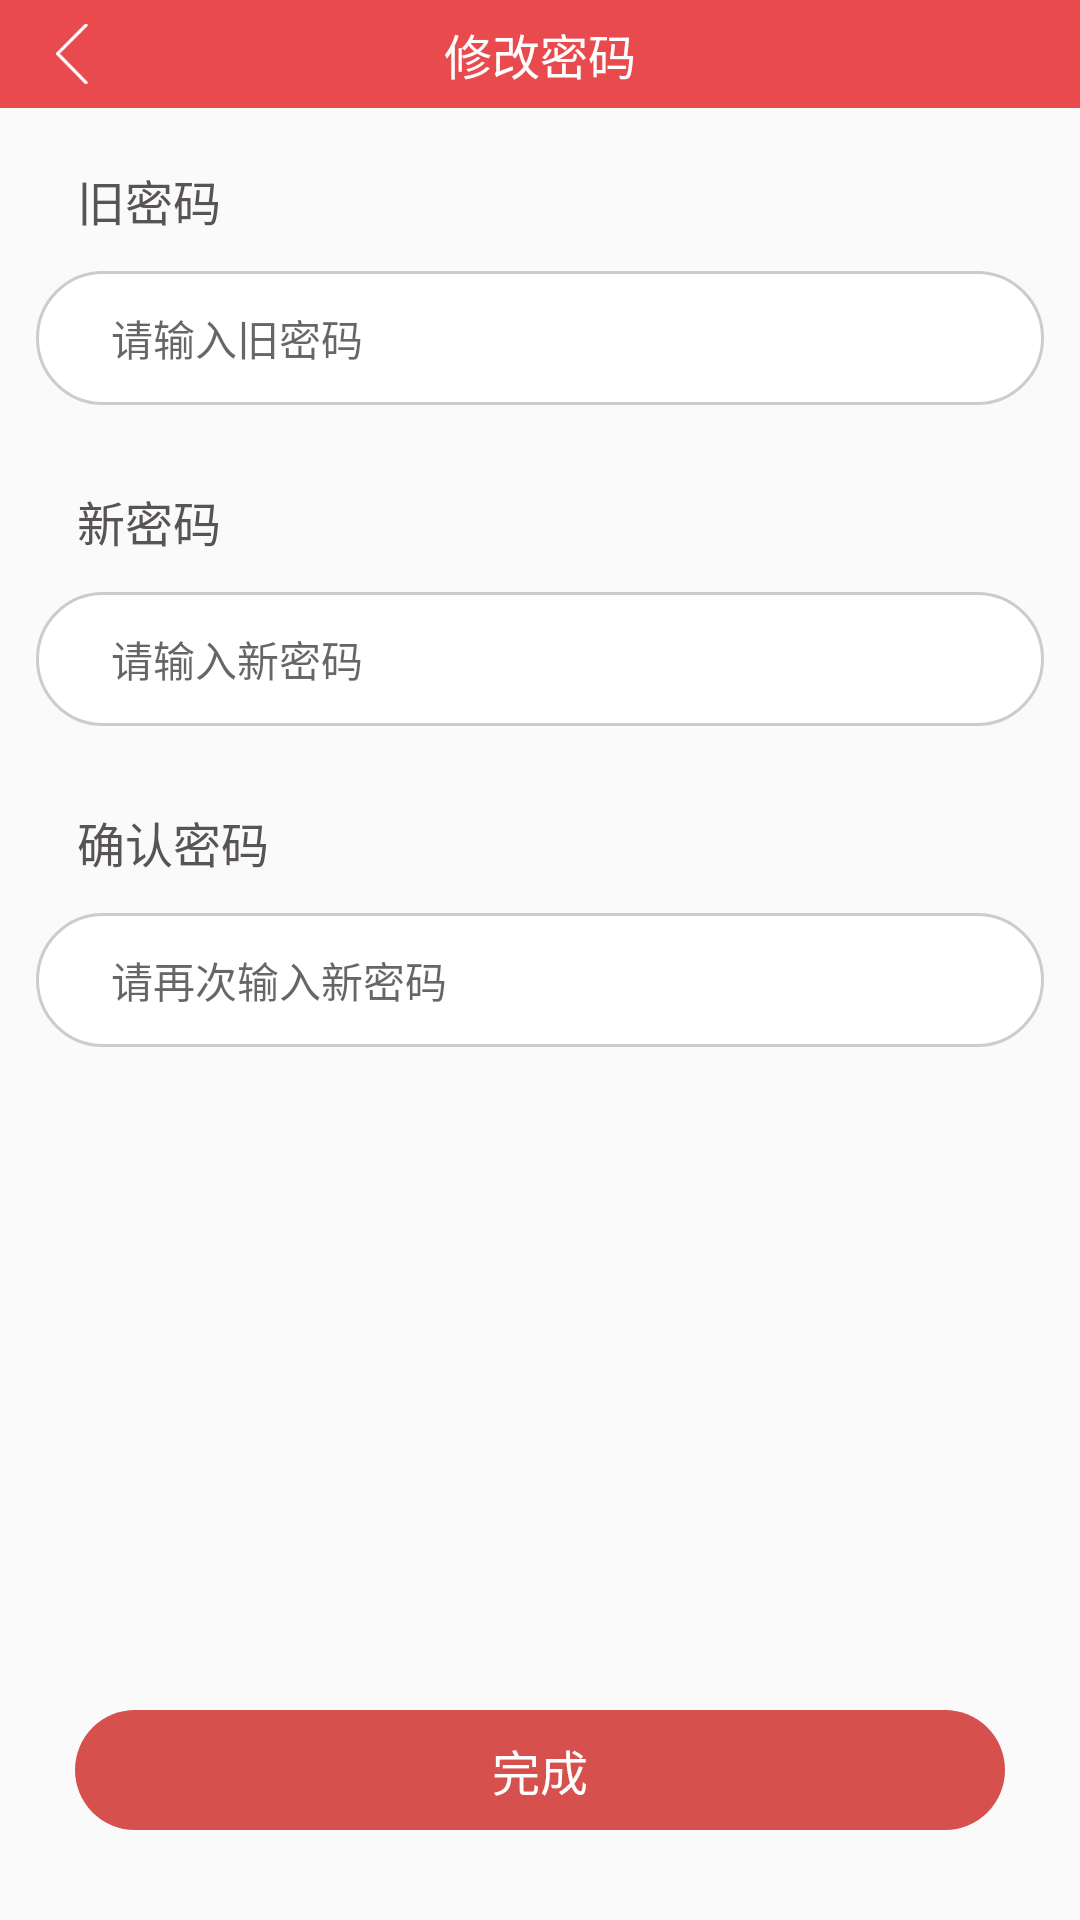

Where to tap for icons on this 1080 x 1920 app screen, as [x,y]:
detailback: [72,54]
